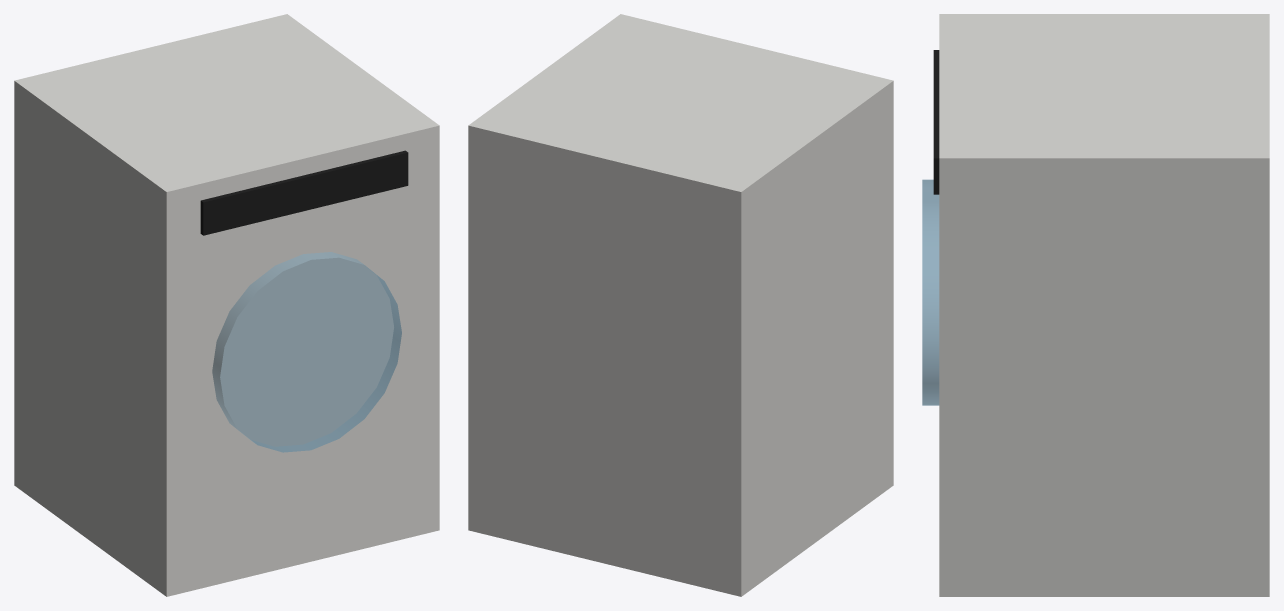
Rendered from washing-machine.obj.
The picture shows the model from 3 angles, left to right: view 1: azimuth 30°, elevation 25°; view 2: azimuth 150°, elevation 25°; view 3: azimuth 270°, elevation 25°; orthographic projection. The views are drawn at different scales.
Visible parts, largest first — view 1: washing-machine_0, washing-machine_1, washing-machine_2; view 2: washing-machine_0; view 3: washing-machine_0, washing-machine_1, washing-machine_2.
Part boxes in pixels (left/top/right/bottom): washing-machine_0: left=14, top=14, right=439, bottom=596; washing-machine_1: left=212, top=252, right=401, bottom=452; washing-machine_2: left=200, top=150, right=408, bottom=235; washing-machine_0: left=468, top=14, right=893, bottom=596; washing-machine_0: left=939, top=14, right=1269, bottom=596; washing-machine_1: left=922, top=179, right=939, bottom=405; washing-machine_2: left=933, top=50, right=939, bottom=194.
Size of the model in its own units: 0.6 by 0.85 by 0.61.
